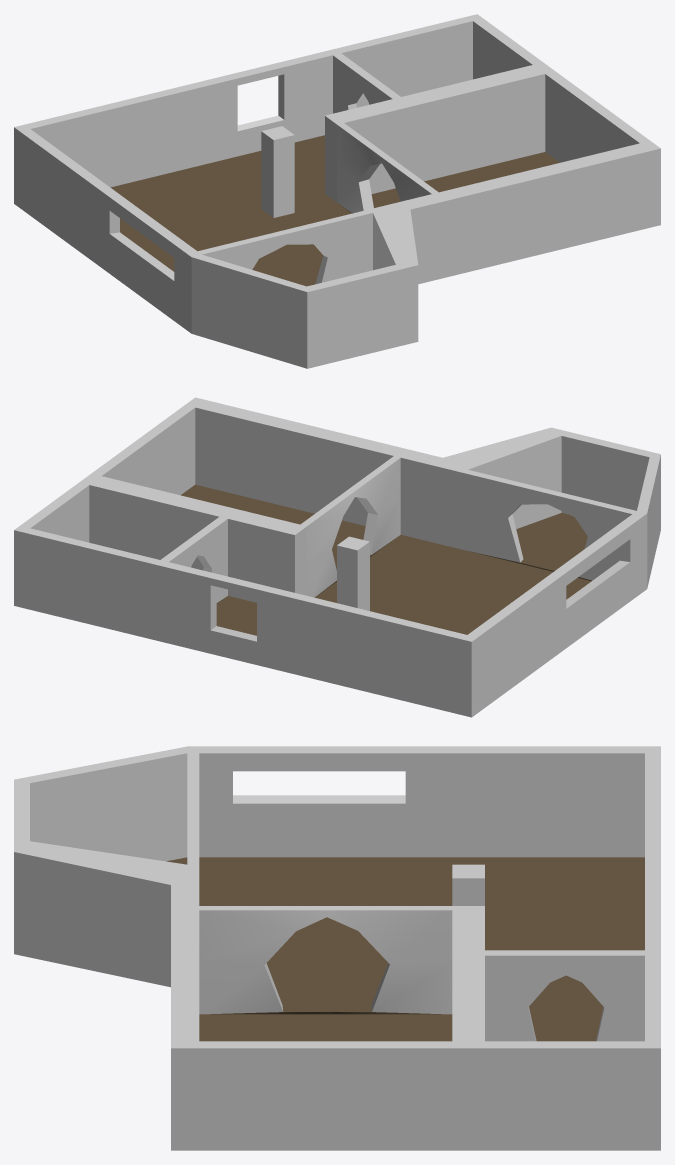
File: SueloYParedes (1).fbx
3 views of the same model, one above another, from view 1: azimuth 30°, elevation 25°; view 2: azimuth 150°, elevation 25°; view 3: azimuth 270°, elevation 25° (orthographic). The views are drawn at different scales.
Visible parts, largest first — view 1: polySurface75; view 2: polySurface75; view 3: polySurface75.
Part boxes in pixels (x1,y1,x2,y2): polySurface75: (14,14,660,368); polySurface75: (14,397,660,717); polySurface75: (14,746,660,1150).
Bounding box in the file's own units: 69.51 × 11.17 × 62.99.
